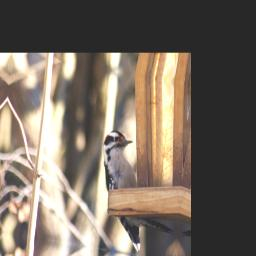Woodpecker: (94, 128, 181, 256)
